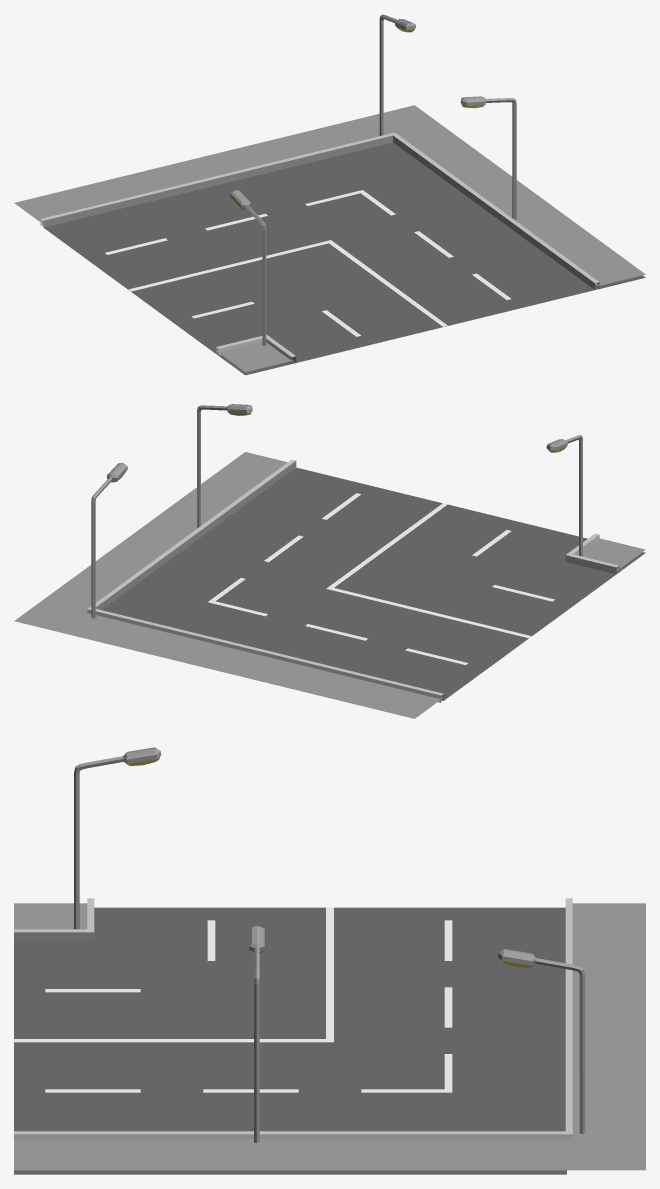
File: road_tile_2x2_003.fbx
3 renders of one model, top to bottom at view 1: azimuth 30°, elevation 25°; view 2: azimuth 150°, elevation 25°; view 3: azimuth 270°, elevation 25°, orthographic. The views are drawn at different scales.
Parts seen in each view (by area): view 1: road_tile_2x2_003; view 2: road_tile_2x2_003; view 3: road_tile_2x2_003.
Boxes of the visible parts, box(x1,y1,x2,y2) form: road_tile_2x2_003: box(14, 14, 645, 375); road_tile_2x2_003: box(14, 404, 645, 718); road_tile_2x2_003: box(14, 747, 645, 1174).
Size of the model in its own units: 1600 by 525 by 1600.
